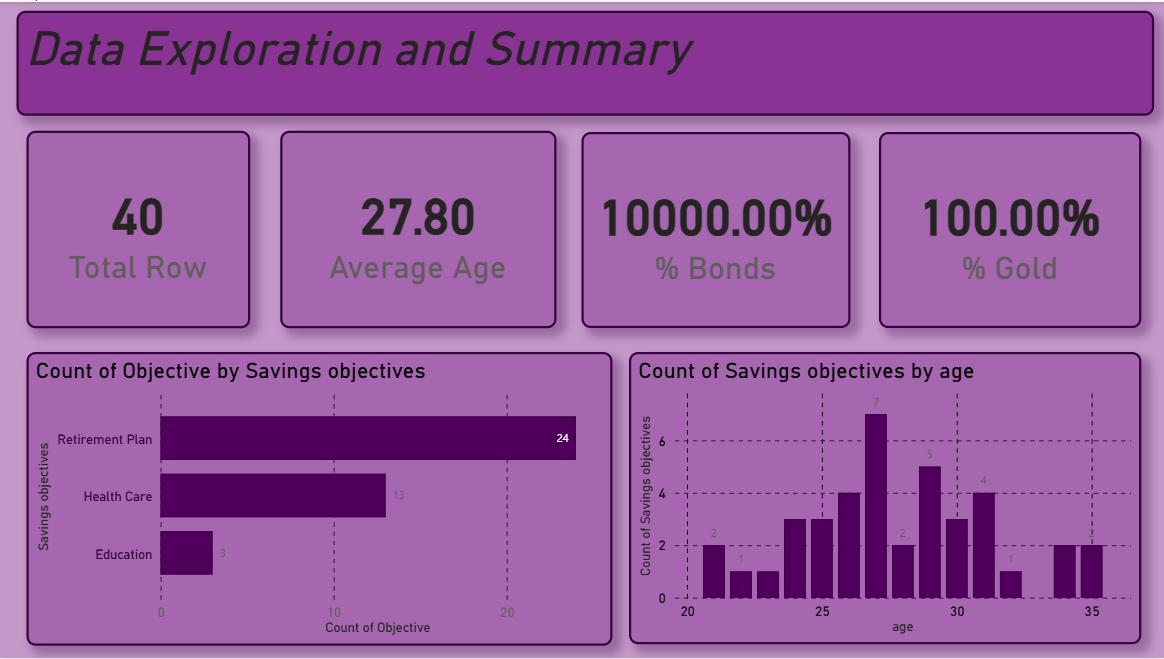

The dashboard page shown, as its layout file describes it:
{"tool":"powerbi","page":{"name":"Page 1","canvas":[1280,720],"ordinal":0},"visuals":[{"type":"textbox","box":[19.2,9.6,1248.7,115.3],"z":0},{"type":"card","fields":{"Values":["Data_set 2.Average Age"]},"box":[308.7,141.3,303.3,216.8],"z":1000},{"type":"barChart","fields":{"Category":["Data_set 2. Savings objectives"],"Y":["CountNonNull(Data_set 2.Objective)"]},"box":[30.2,384.2,643.6,322.5],"z":2000},{"type":"card","fields":{"Values":["Data_set 2.Total Row"]},"box":[30.2,141.3,245.6,216.8],"z":3000},{"type":"card","fields":{"Values":["Data_set 2.% Mutual Funds"]},"box":[639.5,142.7,295,215.4],"z":4000},{"type":"card","fields":{"Values":["Data_set 2.% Gold"]},"box":[966,142.7,288.2,215.4],"z":5000},{"type":"clusteredColumnChart","fields":{"Category":["Data_set 2.age"],"Y":["CountNonNull(Data_set 2. Savings objectives)"]},"box":[691.6,384.2,562.6,321.1],"z":7000}]}

Visuals, with their boxes in screenshot pixels (x1, y1, x2, y2), scaled from the page's 1280x720 canvas onto the 1164x659 screenshot:
textbox: [17, 9, 1153, 114]
card - Data_set 2.Average Age: [281, 129, 557, 328]
barChart - Data_set 2. Savings objectives x CountNonNull(Data_set 2.Objective): [27, 352, 613, 647]
card - Data_set 2.Total Row: [27, 129, 251, 328]
card - Data_set 2.% Mutual Funds: [582, 131, 850, 328]
card - Data_set 2.% Gold: [878, 131, 1141, 328]
clusteredColumnChart - Data_set 2.age x CountNonNull(Data_set 2. Savings objectives): [629, 352, 1141, 646]
